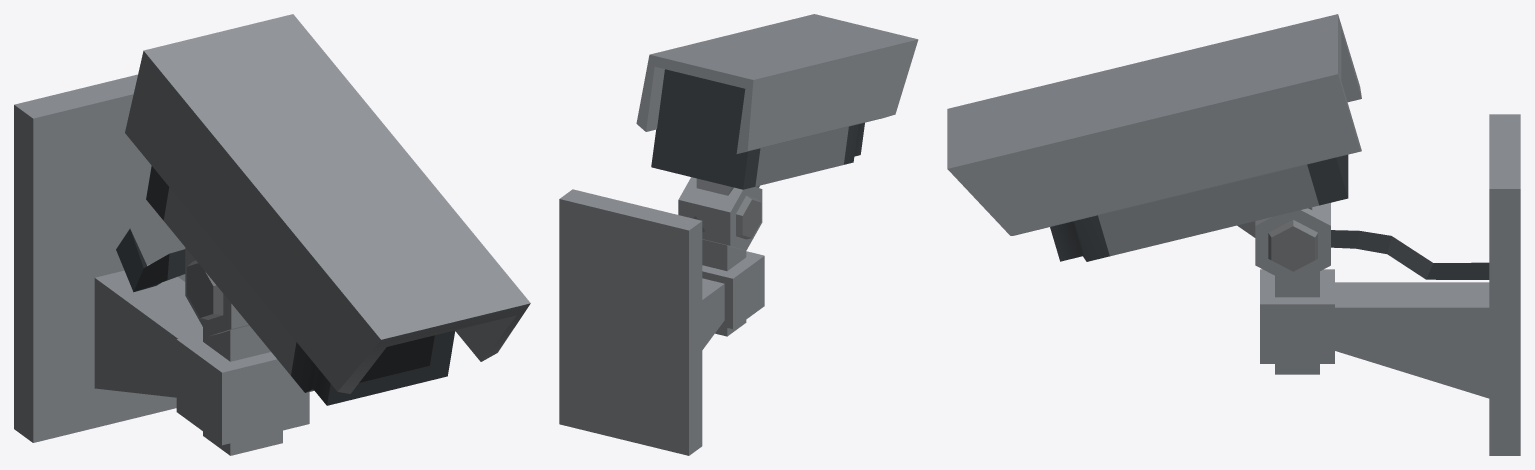
The model's file is SM_Prop_Security_Camera_01.glb.
The picture shows the model from 3 angles, left to right: view 1: azimuth 30°, elevation 25°; view 2: azimuth 150°, elevation 25°; view 3: azimuth 270°, elevation 25°; orthographic projection. The views are drawn at different scales.
Visible parts, largest first — view 1: SM_Prop_Security_Camera_Head_01, SM_Prop_Security_Camera_01; view 2: SM_Prop_Security_Camera_01, SM_Prop_Security_Camera_Head_01; view 3: SM_Prop_Security_Camera_Head_01, SM_Prop_Security_Camera_01.
Part boxes in pixels (<box>): SM_Prop_Security_Camera_Head_01: <box>125,14,530,405</box>; SM_Prop_Security_Camera_01: <box>14,74,309,455</box>; SM_Prop_Security_Camera_01: <box>559,177,764,455</box>; SM_Prop_Security_Camera_Head_01: <box>636,14,918,195</box>; SM_Prop_Security_Camera_Head_01: <box>947,14,1361,261</box>; SM_Prop_Security_Camera_01: <box>1255,114,1520,455</box>.
Bounding box in the file's own units: 0.1806 × 0.4213 × 0.5846.
Materials: 2 (2 with a texture image).
